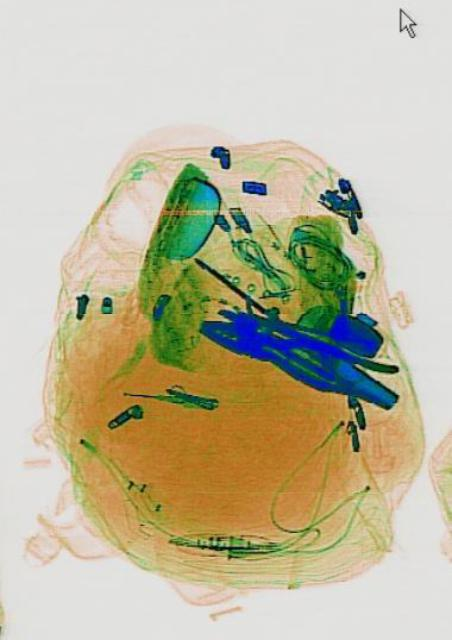Pliers: (194, 297, 396, 413)
